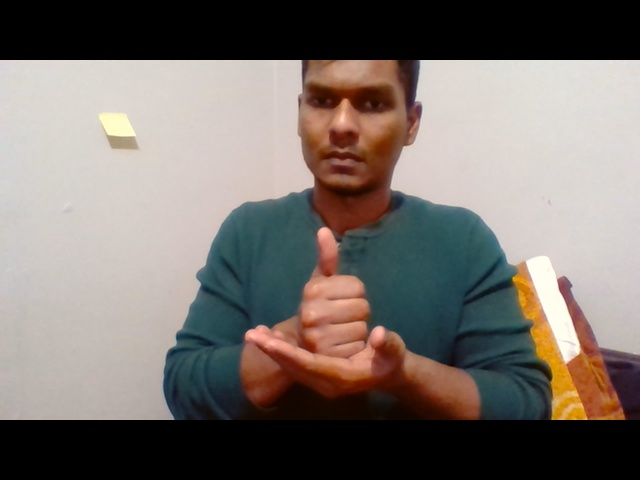Help: (244, 226, 410, 409)
